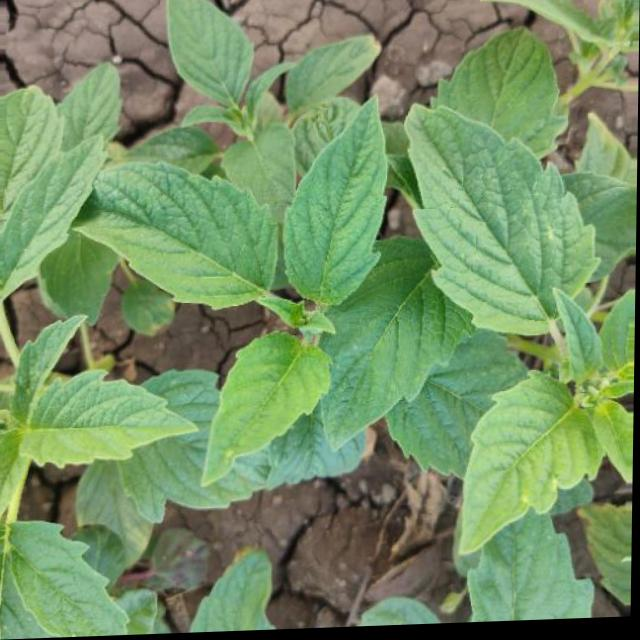crop: (0, 19, 640, 637)
